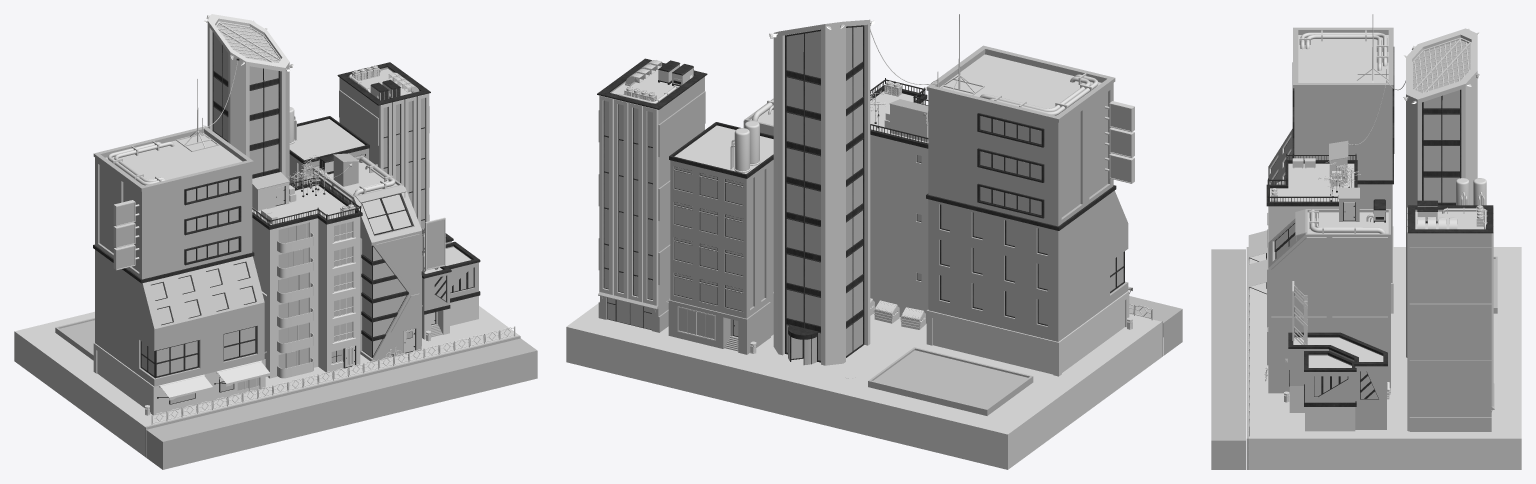
The model's file is KB3D_NTT_BldgSM_D.fbx.
3 renders of one model, left to right at view 1: azimuth 30°, elevation 25°; view 2: azimuth 150°, elevation 25°; view 3: azimuth 270°, elevation 25°, orthographic. The views are drawn at different scales.
Visible parts, largest first — view 1: KB3D_NTT_BldgSM_D_BuildingA, KB3D_NTT_BldgSM_D_Main, KB3D_NTT_BldgSM_D_BuildingB, KB3D_NTT_BldgSM_D_BuildingD, KB3D_NTT_BldgSM_D_BuildingC, KB3D_NTT_BldgSM_D_BuildingF, KB3D_NTT_BldgSM_D_BuildingG, KB3D_NTT_BldgSM_D_BuildingE, KB3D_NTT_BldgSM_D_BillboardB, KB3D_NTT_BldgSM_D_BillboardA, KB3D_NTT_BldgSM_D_AntennaA; view 2: KB3D_NTT_BldgSM_D_BuildingA, KB3D_NTT_BldgSM_D_Main, KB3D_NTT_BldgSM_D_BuildingC, KB3D_NTT_BldgSM_D_BuildingE, KB3D_NTT_BldgSM_D_BuildingF, KB3D_NTT_BldgSM_D_BuildingB, KB3D_NTT_BldgSM_D_BillboardB; view 3: KB3D_NTT_BldgSM_D_Main, KB3D_NTT_BldgSM_D_BuildingF, KB3D_NTT_BldgSM_D_BuildingD, KB3D_NTT_BldgSM_D_BuildingA, KB3D_NTT_BldgSM_D_BuildingC, KB3D_NTT_BldgSM_D_BuildingG, KB3D_NTT_BldgSM_D_BuildingB, KB3D_NTT_BldgSM_D_BuildingE, KB3D_NTT_BldgSM_D_BillboardA, KB3D_NTT_BldgSM_D_AntennaA.
Part boxes in pixels (x1,y1,x2,y2): KB3D_NTT_BldgSM_D_BuildingA: (93,78,270,415); KB3D_NTT_BldgSM_D_Main: (14,306,537,469); KB3D_NTT_BldgSM_D_BuildingB: (252,172,362,378); KB3D_NTT_BldgSM_D_BuildingD: (313,153,421,361); KB3D_NTT_BldgSM_D_BuildingC: (203,14,293,183); KB3D_NTT_BldgSM_D_BuildingF: (337,62,430,230); KB3D_NTT_BldgSM_D_BuildingG: (421,230,480,341); KB3D_NTT_BldgSM_D_BuildingE: (289,107,369,186); KB3D_NTT_BldgSM_D_BillboardB: (113,200,139,270); KB3D_NTT_BldgSM_D_BillboardA: (422,217,445,272); KB3D_NTT_BldgSM_D_AntennaA: (288,155,331,197); KB3D_NTT_BldgSM_D_BuildingA: (926,14,1132,376); KB3D_NTT_BldgSM_D_Main: (566,296,1182,469); KB3D_NTT_BldgSM_D_BuildingC: (769,19,874,365); KB3D_NTT_BldgSM_D_BuildingE: (668,121,773,354); KB3D_NTT_BldgSM_D_BuildingF: (597,58,707,332); KB3D_NTT_BldgSM_D_BuildingB: (870,78,928,329); KB3D_NTT_BldgSM_D_BillboardB: (1104,101,1134,183); KB3D_NTT_BldgSM_D_Main: (1211,247,1521,469); KB3D_NTT_BldgSM_D_BuildingF: (1407,200,1494,431); KB3D_NTT_BldgSM_D_BuildingD: (1265,187,1390,399); KB3D_NTT_BldgSM_D_BuildingA: (1248,14,1394,313); KB3D_NTT_BldgSM_D_BuildingC: (1403,28,1479,357); KB3D_NTT_BldgSM_D_BuildingG: (1284,332,1387,431); KB3D_NTT_BldgSM_D_BuildingB: (1266,140,1357,327); KB3D_NTT_BldgSM_D_BuildingE: (1456,178,1486,205); KB3D_NTT_BldgSM_D_BillboardA: (1292,281,1307,344); KB3D_NTT_BldgSM_D_AntennaA: (1318,160,1360,201).
Size of the model in its own units: 3946 by 3197 by 2685.
